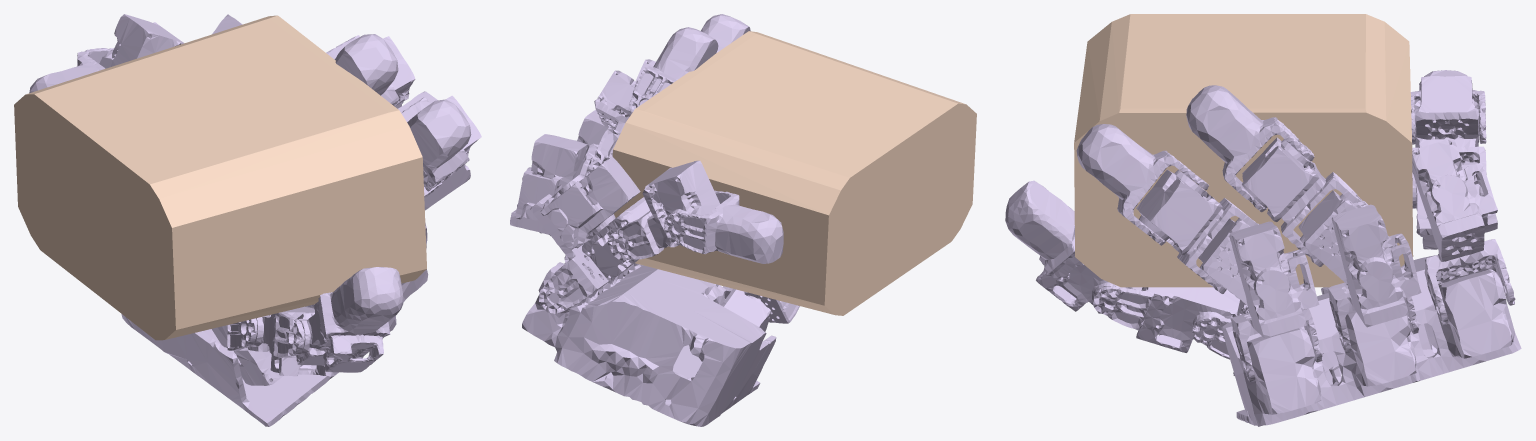
3 renders of one model, left to right at view 1: azimuth 30°, elevation 25°; view 2: azimuth 150°, elevation 25°; view 3: azimuth 270°, elevation 25°, orthographic. The views are drawn at different scales.
Parts seen in each view (by area): view 1: world, LEAP_hand; view 2: world, LEAP_hand; view 3: LEAP_hand, world.
Boxes of the visible parts, <box> form: world: <box>14,15,426,340</box>; LEAP_hand: <box>29,14,481,426</box>; world: <box>612,31,976,315</box>; LEAP_hand: <box>510,14,799,426</box>; LEAP_hand: <box>1005,70,1521,426</box>; world: <box>1074,14,1413,287</box>.
Size of the model in its own units: 0.1984 by 0.1843 by 0.2314.
